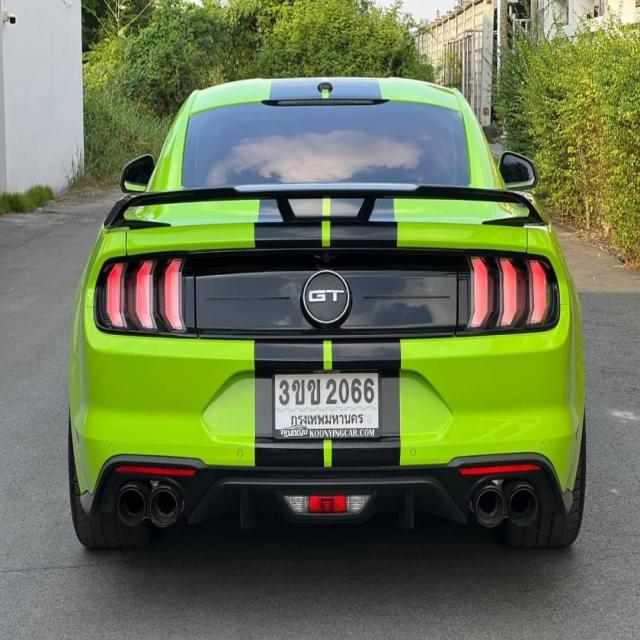license_plate: (271, 367, 382, 443)
